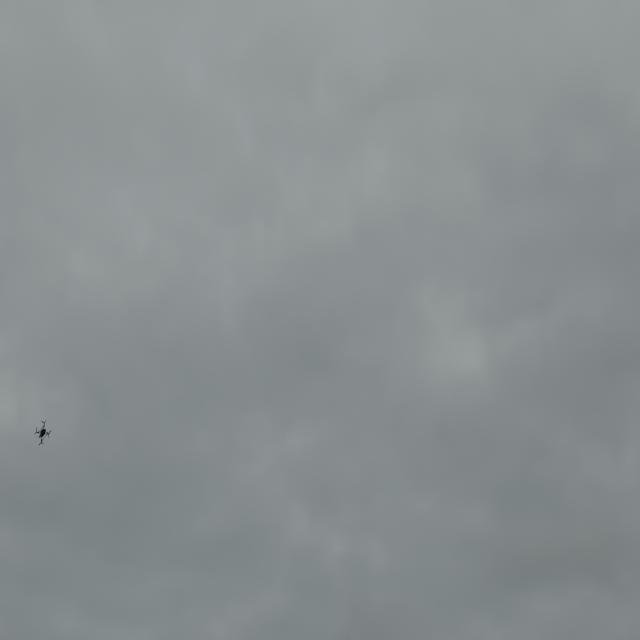drone: (34, 420, 51, 446)
